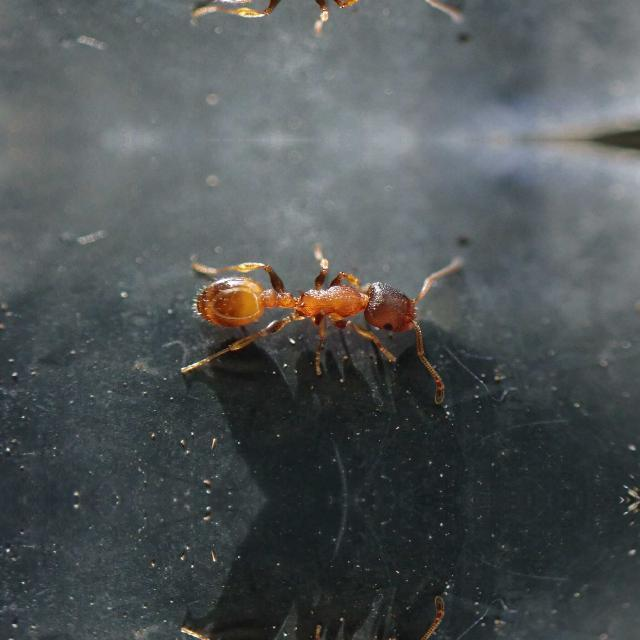Temnothorax: (184, 228, 453, 388), (184, 0, 452, 52)
